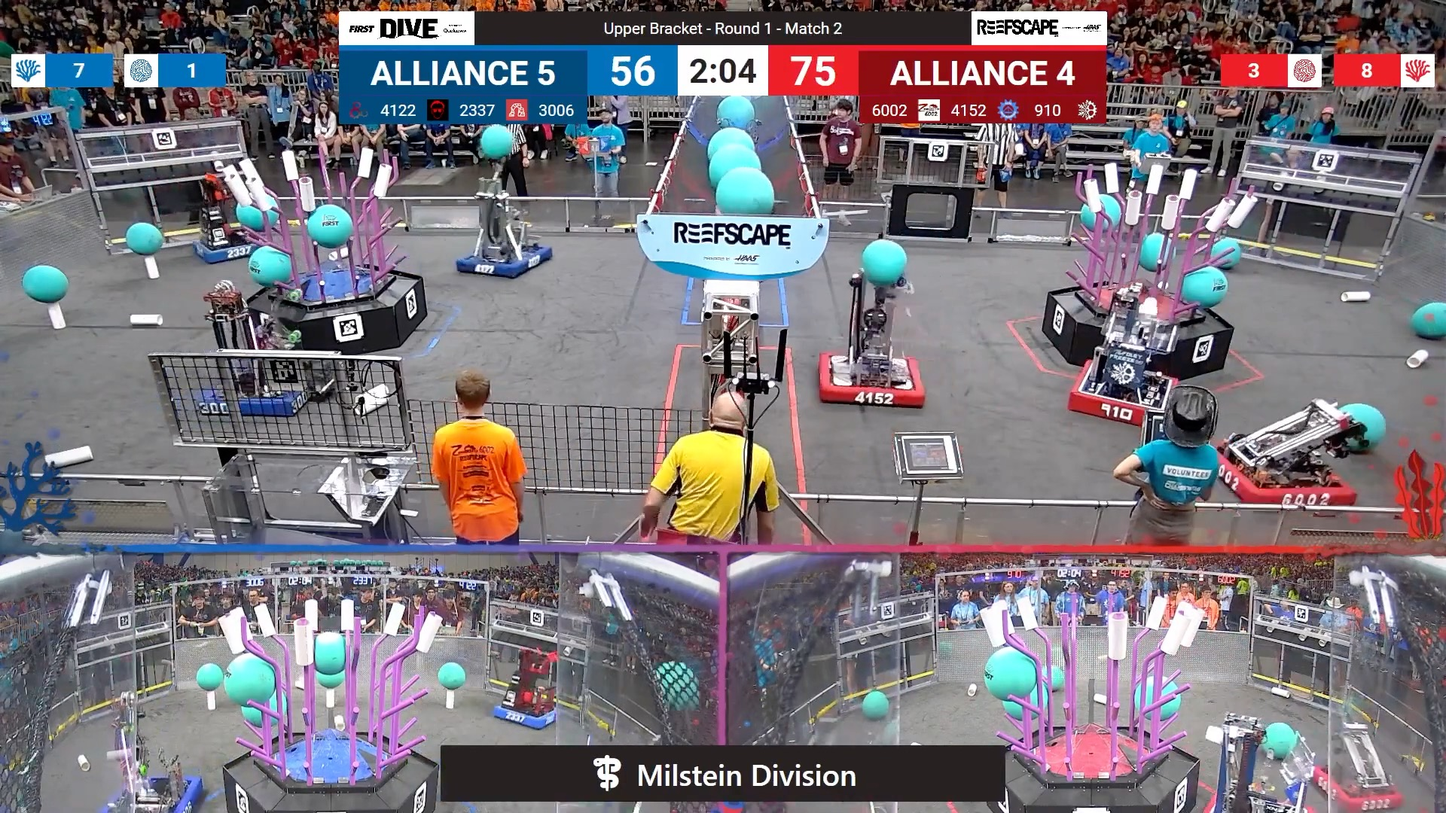bumpers: (1210, 449, 1360, 515), (804, 346, 931, 415), (1063, 364, 1179, 431), (192, 363, 318, 424), (90, 766, 207, 811), (1316, 759, 1410, 812), (447, 244, 561, 281), (184, 231, 272, 266), (486, 696, 566, 733)
